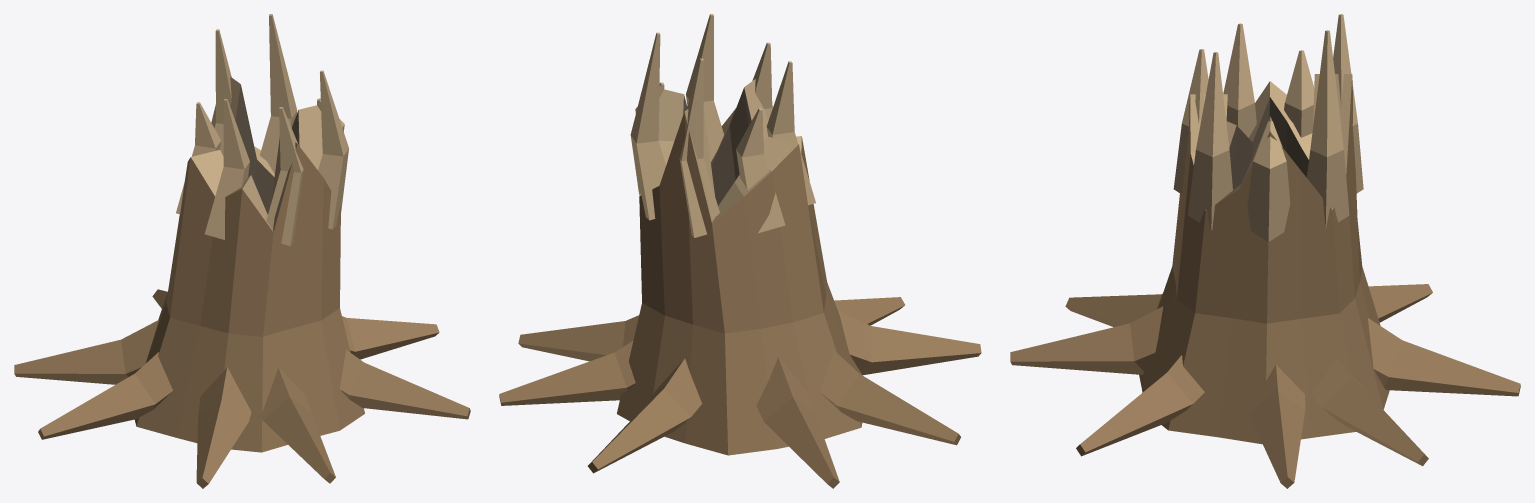
File: stump_02.glb
3 views of the same model, side by side, from view 1: azimuth 30°, elevation 25°; view 2: azimuth 150°, elevation 25°; view 3: azimuth 270°, elevation 25° (orthographic). The views are drawn at different scales.
Parts seen in each view (by area): view 1: Stump_800_02; view 2: Stump_800_02; view 3: Stump_800_02.
Part boxes in pixels (x1=…): Stump_800_02: x1=14, y1=14, x2=470, y2=488; Stump_800_02: x1=499, y1=14, x2=981, y2=488; Stump_800_02: x1=1010, y1=14, x2=1520, y2=488.
Bounding box in the file's own units: 2.6 × 2.17 × 2.58.
